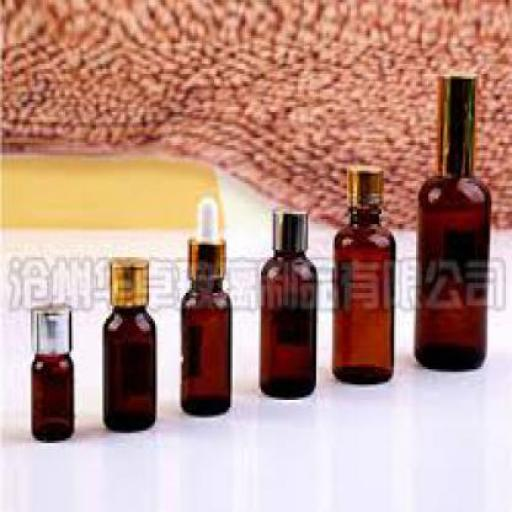glass: (412, 176, 488, 369), (332, 206, 392, 382), (260, 252, 314, 398), (177, 278, 229, 416), (102, 303, 153, 431), (28, 352, 72, 438)
metal: (435, 72, 473, 174), (108, 252, 147, 303), (30, 300, 68, 347), (274, 203, 306, 252), (345, 163, 379, 206), (188, 235, 222, 275)
plastic: (193, 196, 214, 242)
